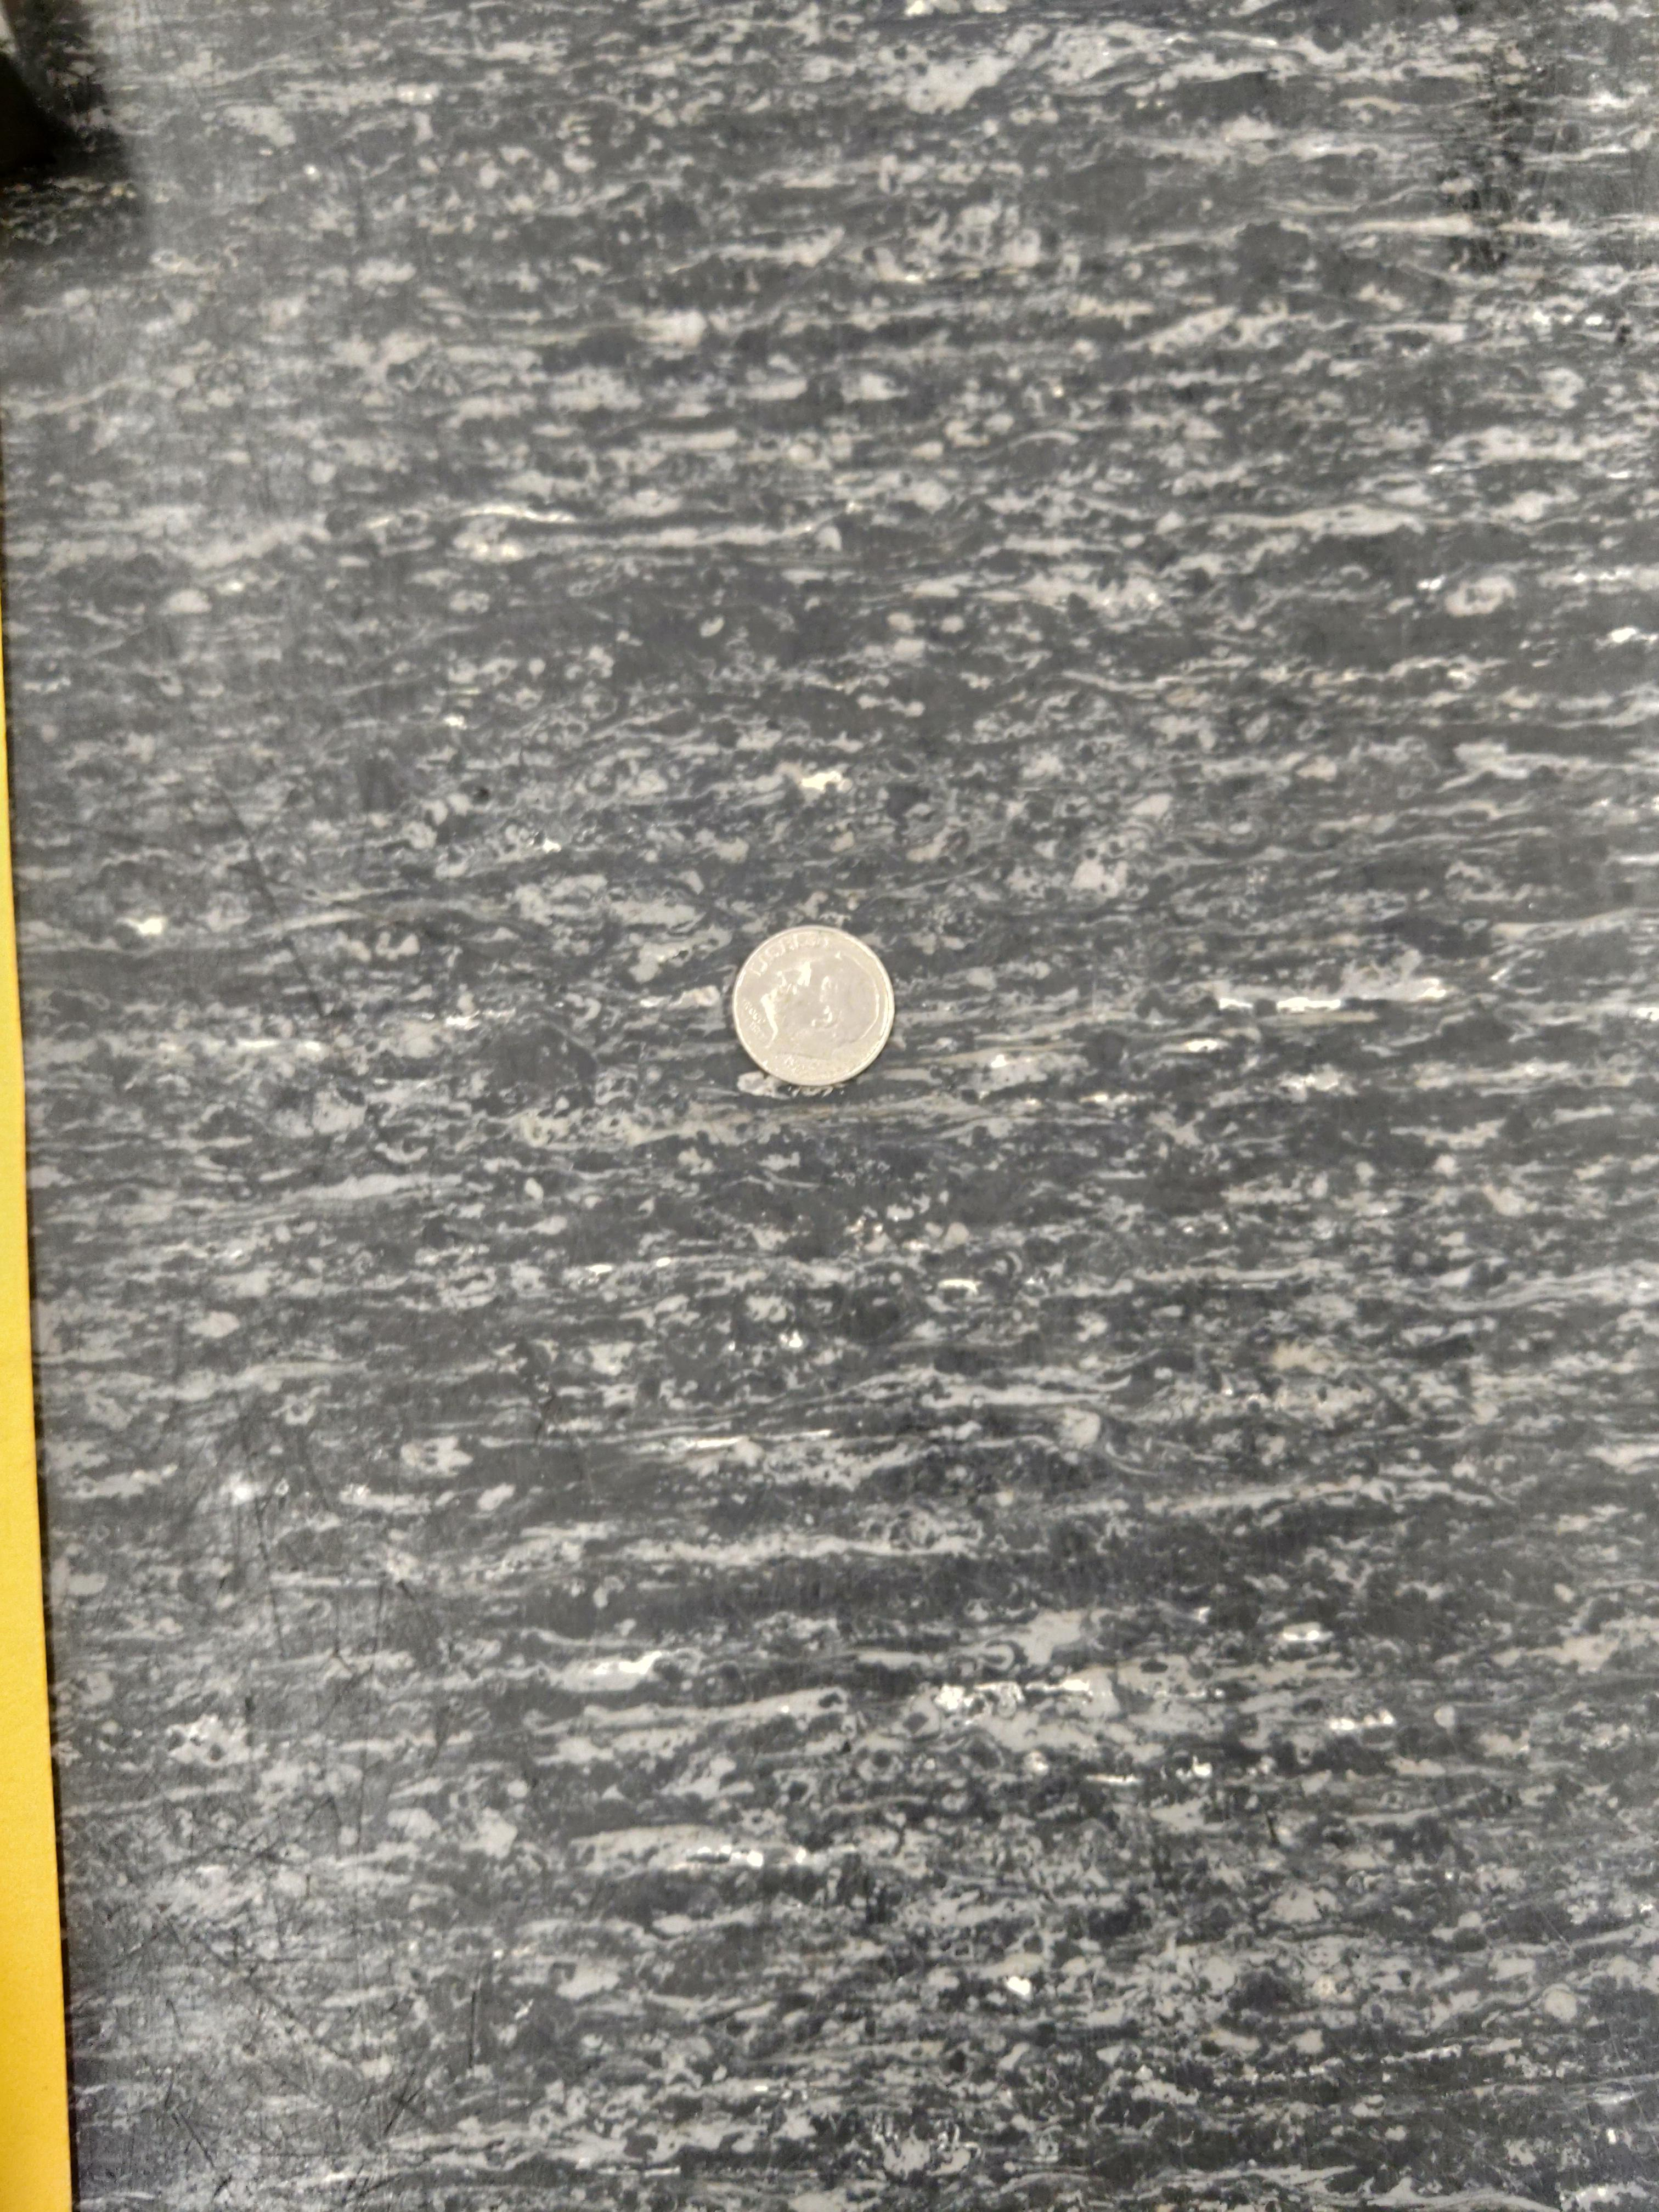Dime: (732, 921, 896, 1090)
